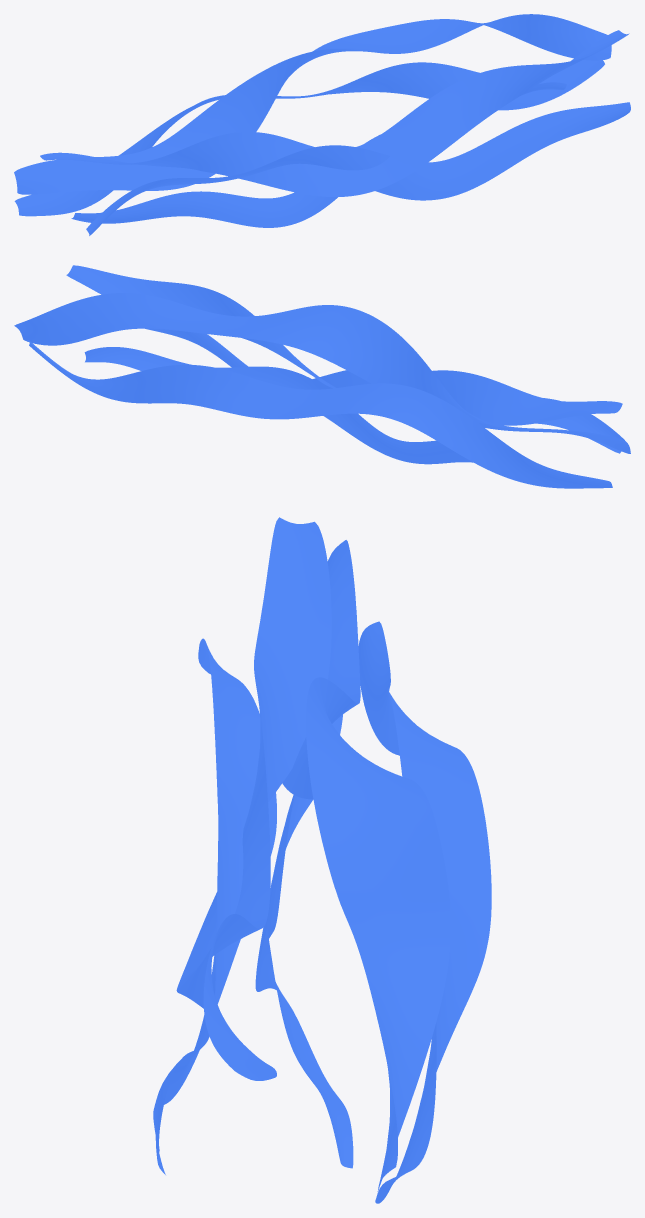
Rendered from ribbons.glb.
The picture shows the model from 3 angles, top to bottom: view 1: azimuth 30°, elevation 25°; view 2: azimuth 150°, elevation 25°; view 3: azimuth 270°, elevation 25°; orthographic projection. The views are drawn at different scales.
Visible parts, largest first — view 1: Ribbon_2, Ribbon_4, Ribbon_1, Ribbon_5, Ribbon_3; view 2: Ribbon_4, Ribbon_5, Ribbon_2, Ribbon_3, Ribbon_1; view 3: Ribbon_4, Ribbon_2, Ribbon_5, Ribbon_1, Ribbon_3.
Boxes of the visible parts, x1,y1,x2,y2 form: Ribbon_2: [40, 30, 629, 196]; Ribbon_4: [14, 14, 611, 194]; Ribbon_1: [86, 102, 630, 235]; Ribbon_5: [14, 60, 604, 216]; Ribbon_3: [71, 82, 566, 227]; Ribbon_4: [14, 293, 630, 453]; Ribbon_5: [27, 340, 612, 488]; Ribbon_2: [66, 265, 622, 425]; Ribbon_3: [84, 347, 472, 464]; Ribbon_1: [145, 328, 625, 453]; Ribbon_4: [282, 540, 450, 1191]; Ribbon_2: [176, 517, 331, 1080]; Ribbon_5: [358, 621, 491, 1203]; Ribbon_1: [153, 638, 276, 1174]; Ribbon_3: [255, 714, 353, 1168].
Size of the model in its own units: 16.08 by 3.92 by 3.93.
